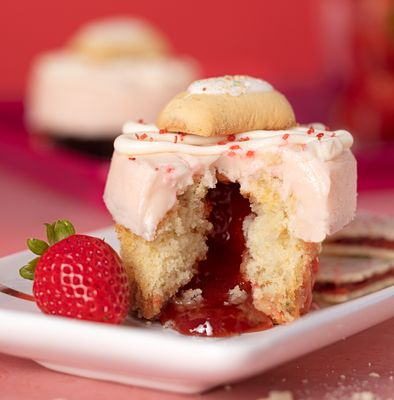curry: (0, 6, 394, 399)
sushi: (101, 117, 360, 337)
